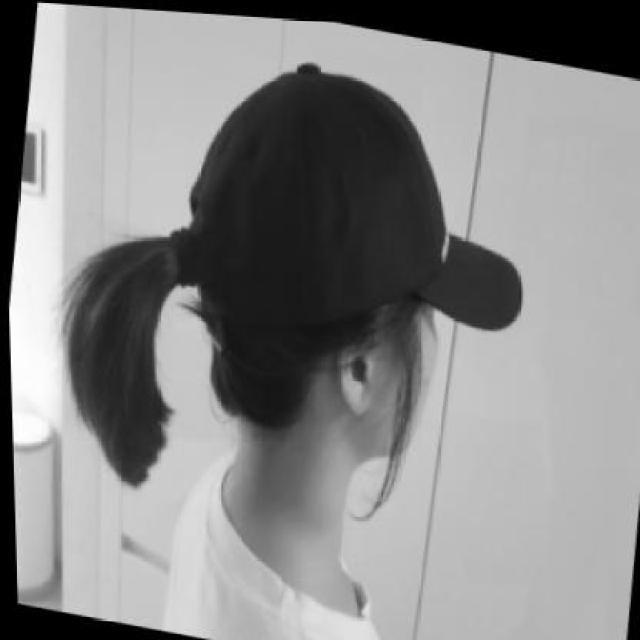hat: (168, 33, 548, 362)
